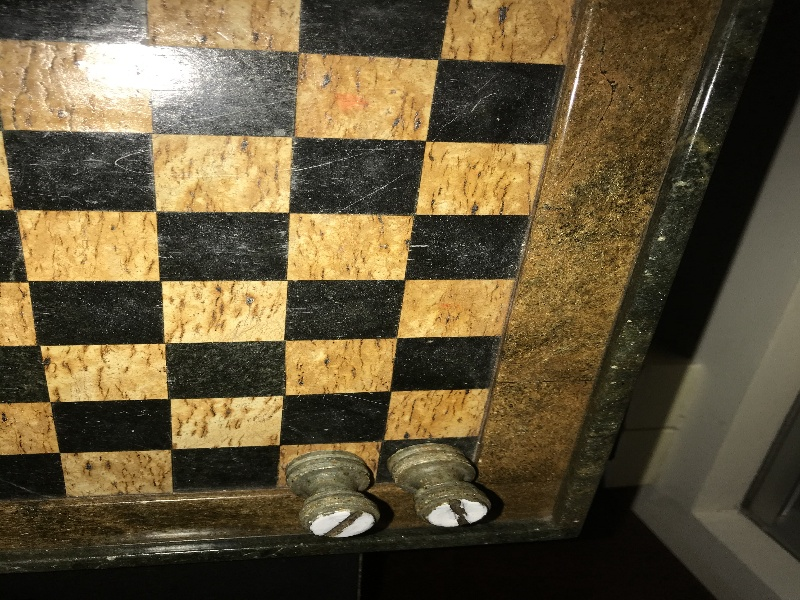WhiteRook: (388, 443, 489, 527), (286, 450, 378, 539)
